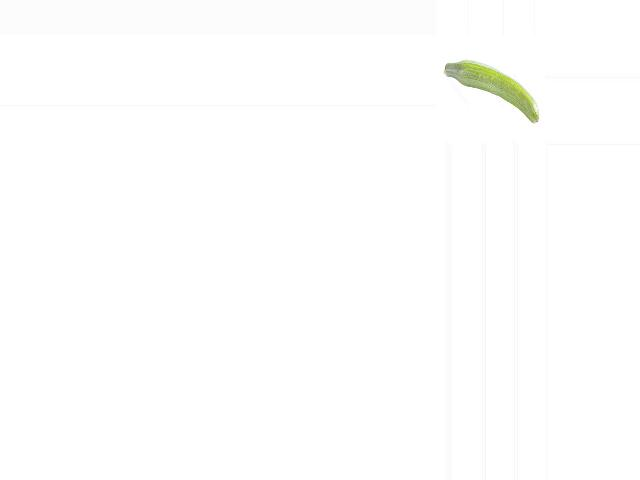cucumber: (443, 60, 538, 124)
